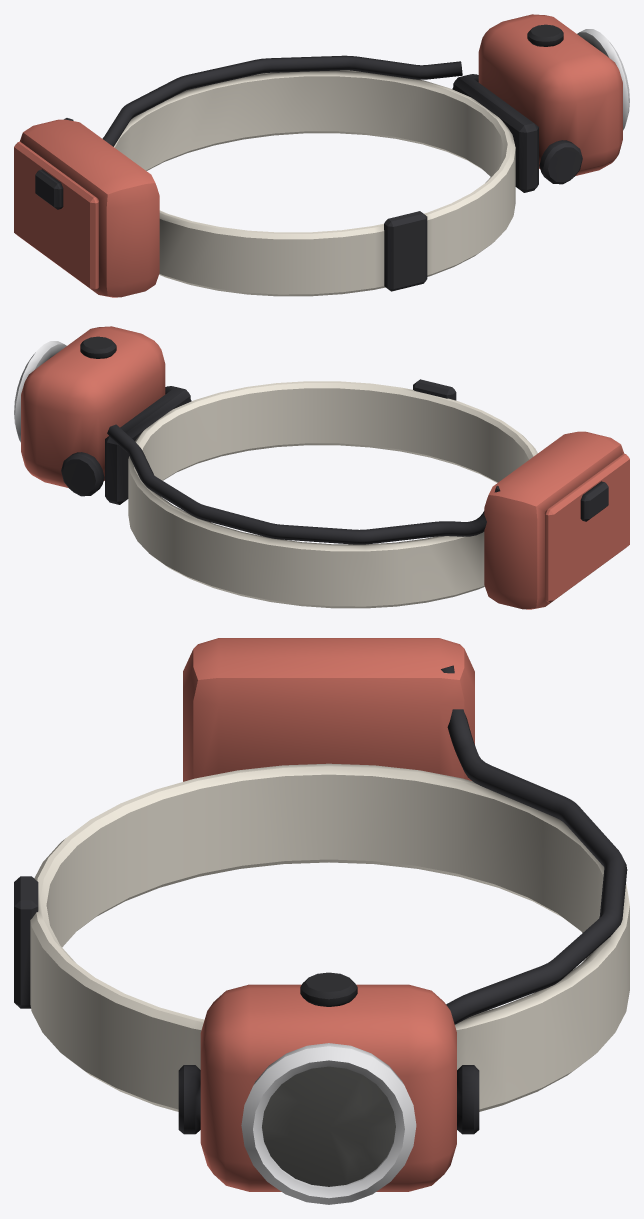
File: lamp_old.glb
3 views of the same model, one above another, from view 1: azimuth 30°, elevation 25°; view 2: azimuth 150°, elevation 25°; view 3: azimuth 270°, elevation 25° (orthographic). The views are drawn at different scales.
Parts seen in each view (by area): view 1: PART; view 2: PART; view 3: PART.
Boxes of the visible parts, <box> form: PART: <box>14,14,629,297</box>; PART: <box>14,326,629,609</box>; PART: <box>14,638,629,1204</box>.
Bounding box in the file's own units: 0.226 × 0.0485 × 0.1393.
